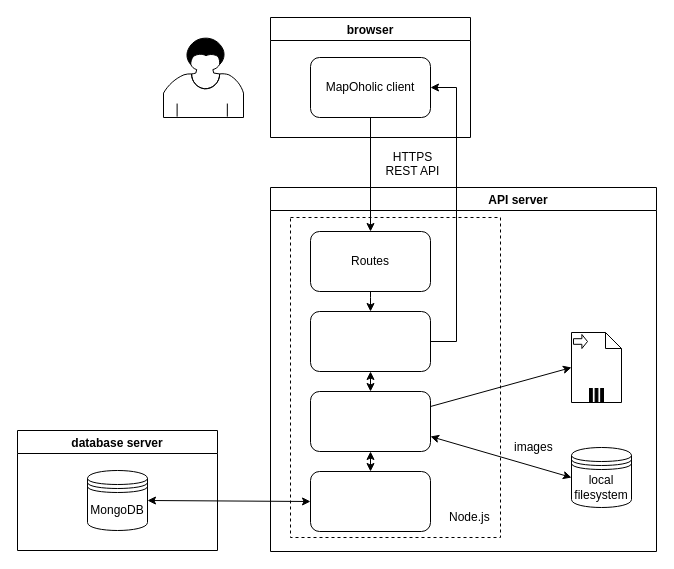
Some shapes in this 674 by 569 pixel diagram are drawn without their labels. Each missing label, with the centre of its shape:
"Controllers" goes at (x=370, y=341).
"Models (Mongoose)" goes at (x=370, y=501).
"server logs" goes at (x=596, y=367).
"Services" goes at (x=370, y=421).
